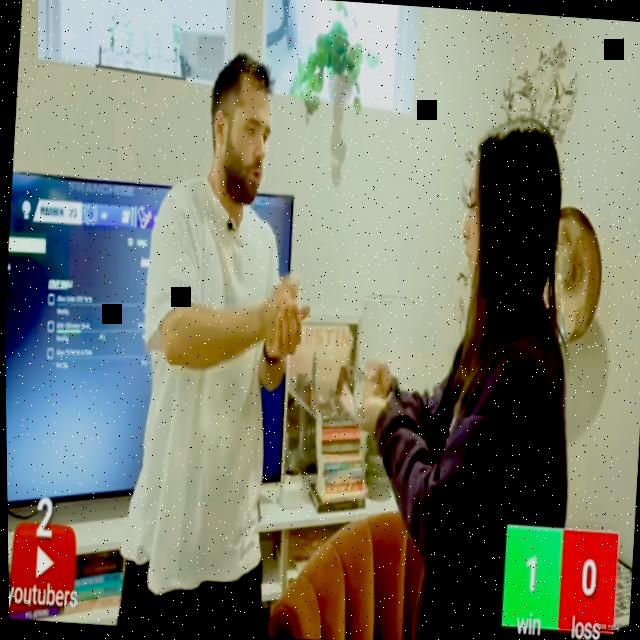Rock: (260, 272, 298, 342), (358, 354, 392, 411)
